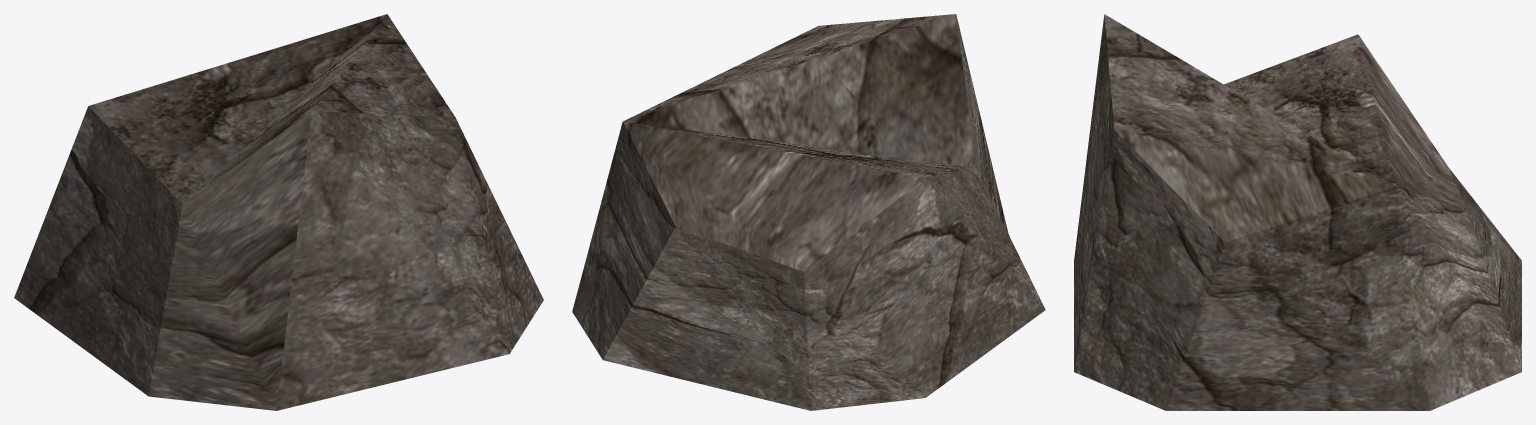
The model's file is bigWall.obj.
3 views of the same model, side by side, from view 1: azimuth 30°, elevation 25°; view 2: azimuth 150°, elevation 25°; view 3: azimuth 270°, elevation 25° (orthographic). The views are drawn at different scales.
Parts seen in each view (by area): view 1: Cube; view 2: Cube; view 3: Cube.
Part boxes in pixels (left/top/right/bottom): Cube: left=14, top=14, right=543, bottom=410; Cube: left=572, top=14, right=1045, bottom=410; Cube: left=1074, top=14, right=1521, bottom=410.
Size of the model in its own units: 4 by 2.67 by 4.
1 material, 1 textured.
